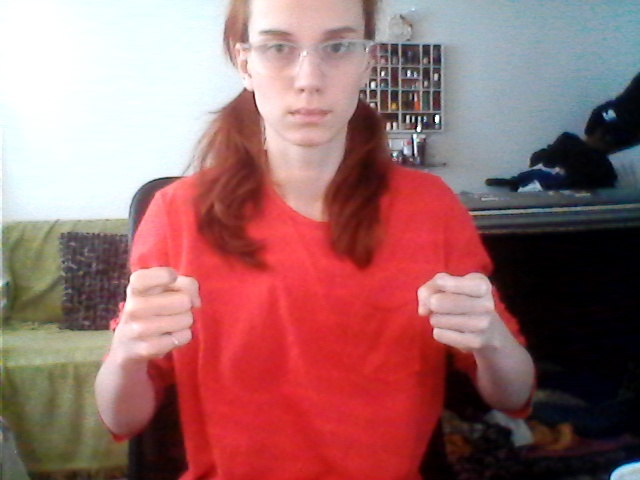davat: (120, 250, 495, 369)
